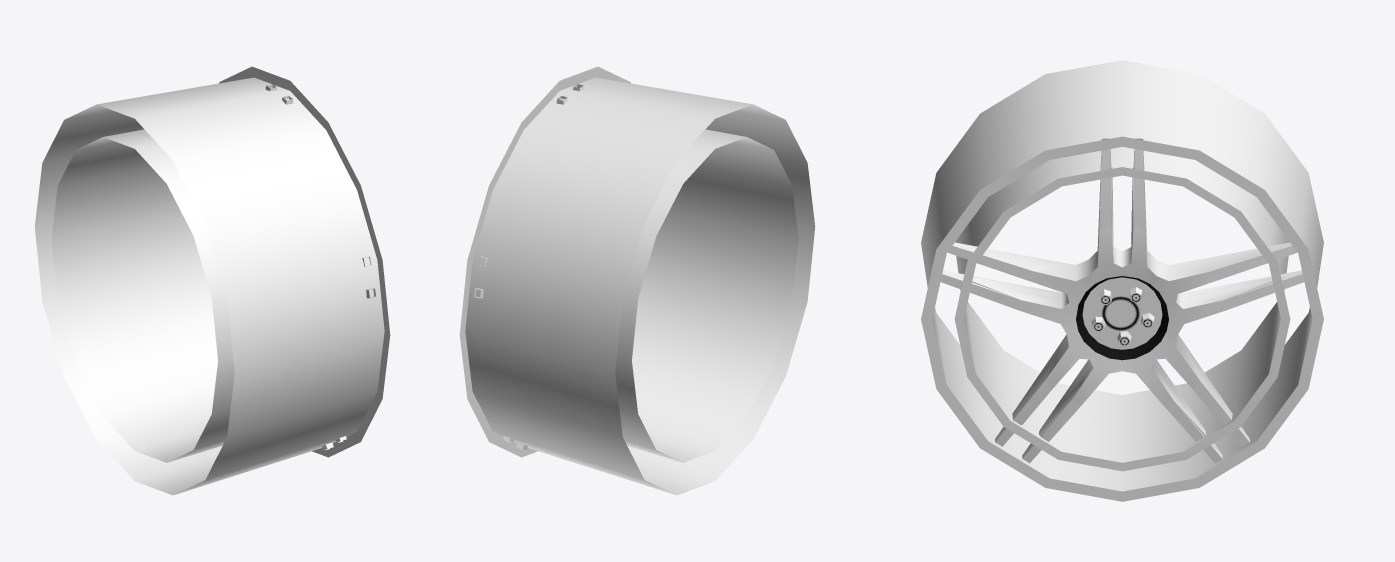
File: F_Wheel_02.FBX
The picture shows the model from 3 angles, left to right: view 1: azimuth 30°, elevation 25°; view 2: azimuth 150°, elevation 25°; view 3: azimuth 270°, elevation 25°; orthographic projection.
Parts seen in each view (by area): view 1: Wheel_02_Sport_LP, Wheel_02; view 2: Wheel_02_Sport_LP, Wheel_02; view 3: Wheel_02_Sport_LP, Wheel_02, Wheel_02_Sport.
Part boxes in pixels (box(x1,y1,x2,y2)): Wheel_02_Sport_LP: box(34, 66, 390, 495); Wheel_02: box(51, 129, 234, 462); Wheel_02_Sport_LP: box(459, 66, 815, 495); Wheel_02: box(615, 129, 798, 462); Wheel_02_Sport_LP: box(921, 60, 1323, 501); Wheel_02: box(954, 147, 1290, 471); Wheel_02_Sport: box(973, 190, 1271, 433).
Bounding box in the file's own units: 700 × 2000 × 2000.
